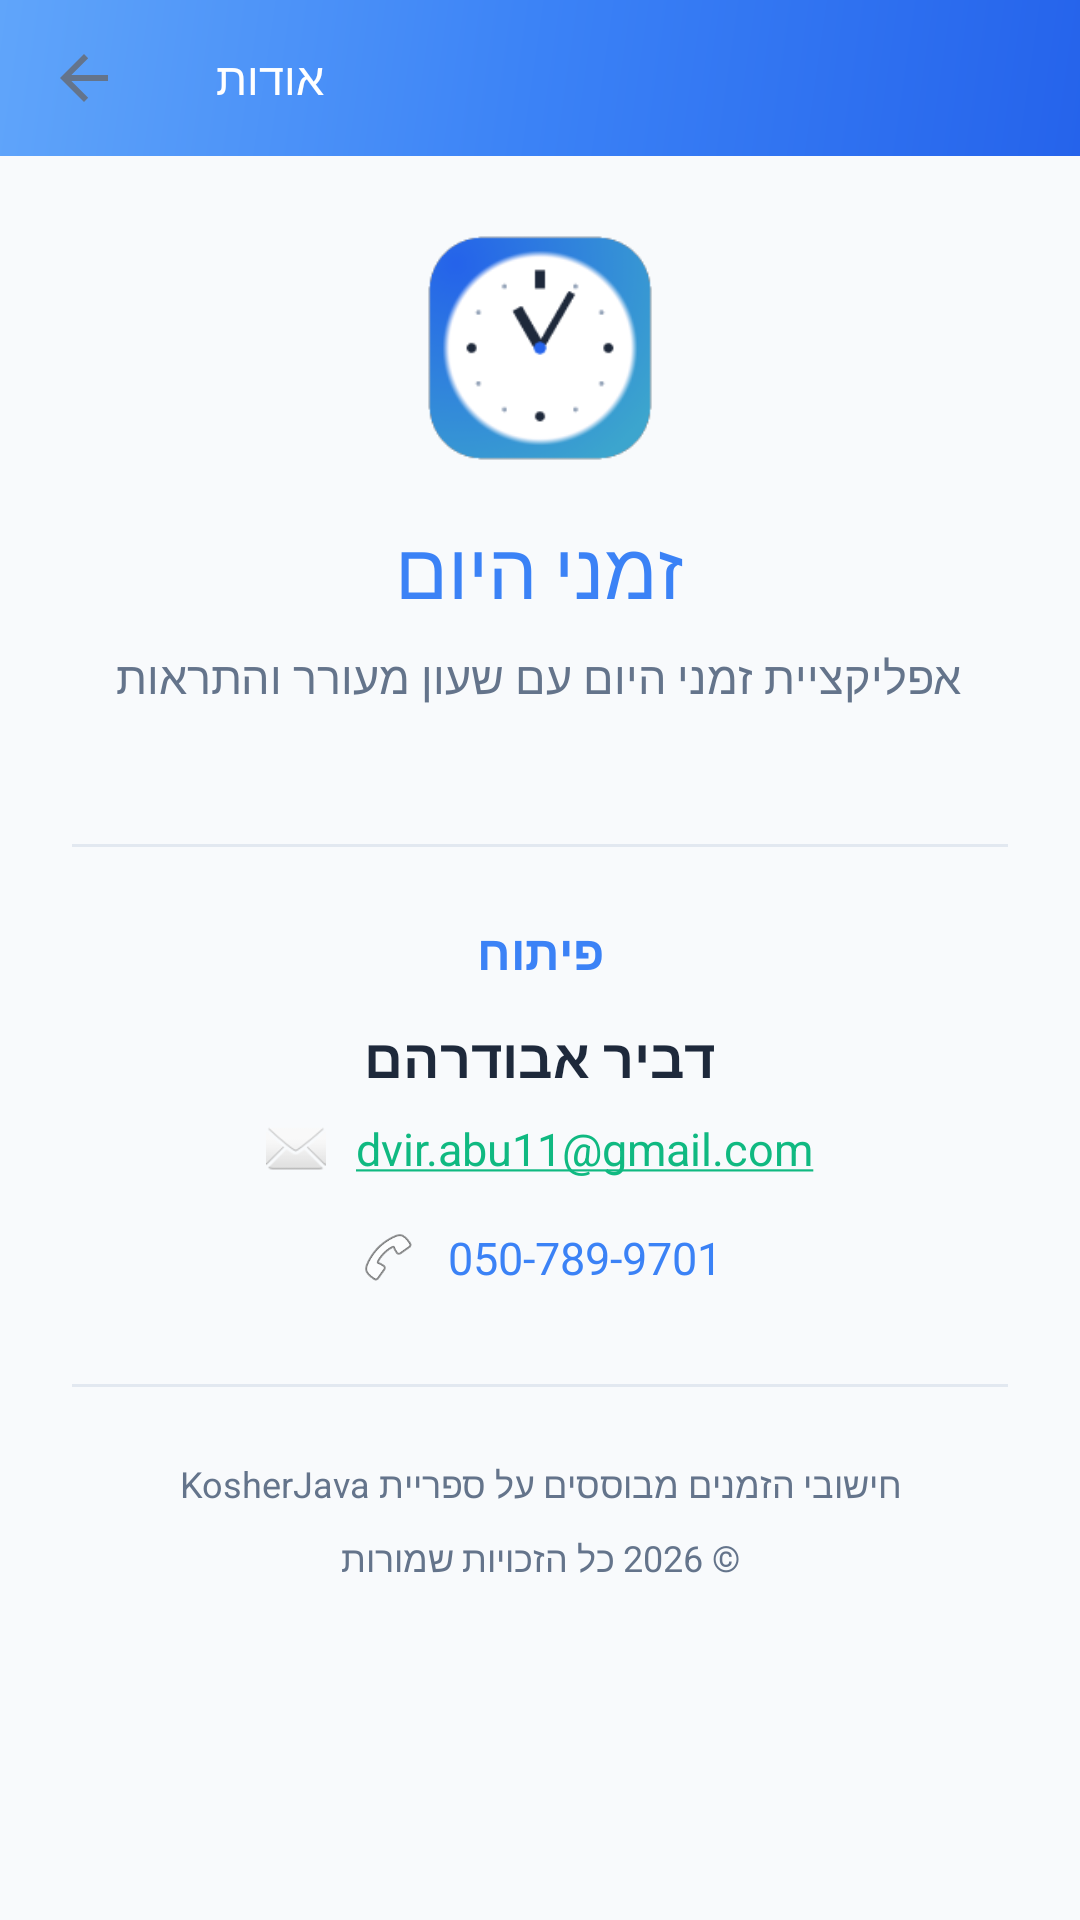

Icons on this 1080px x 1920px Android screen, each with the point to tap as point (x, y):
call: point (388, 1257)
email: point (296, 1149)
